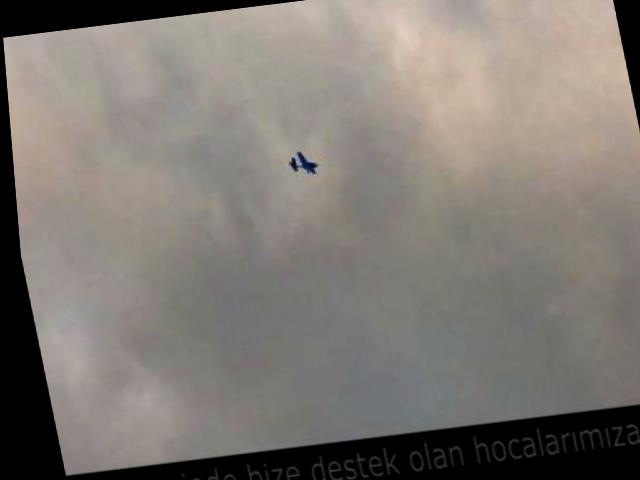uav: (273, 138, 328, 188)
